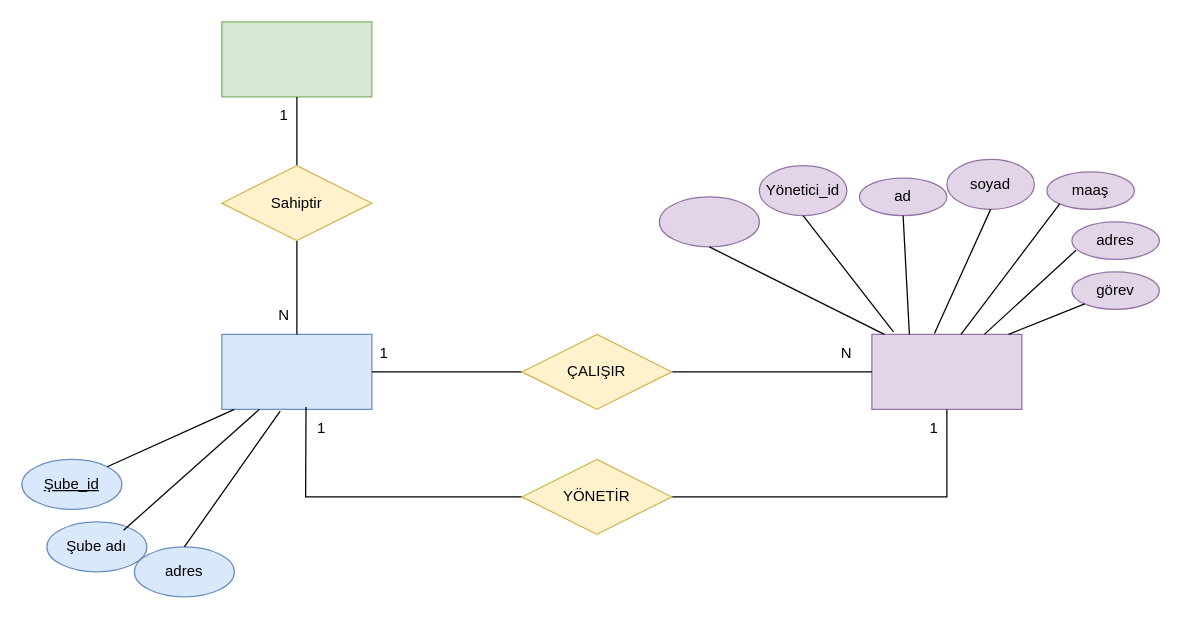
Some shapes in this 1181 by 619 pixel diagram are drawn without their labels. The centre of each missing label's shape, as x and y in pixels:
"ÇALIŞAN" belongs at point 946,371.
"çalışan id" belongs at point 708,221.
"Şirket" belongs at point 296,59.
"ŞUBE" belongs at point 296,371.
